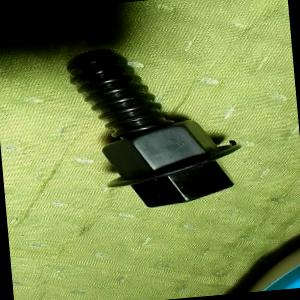parafuso: (65, 38, 246, 214)
